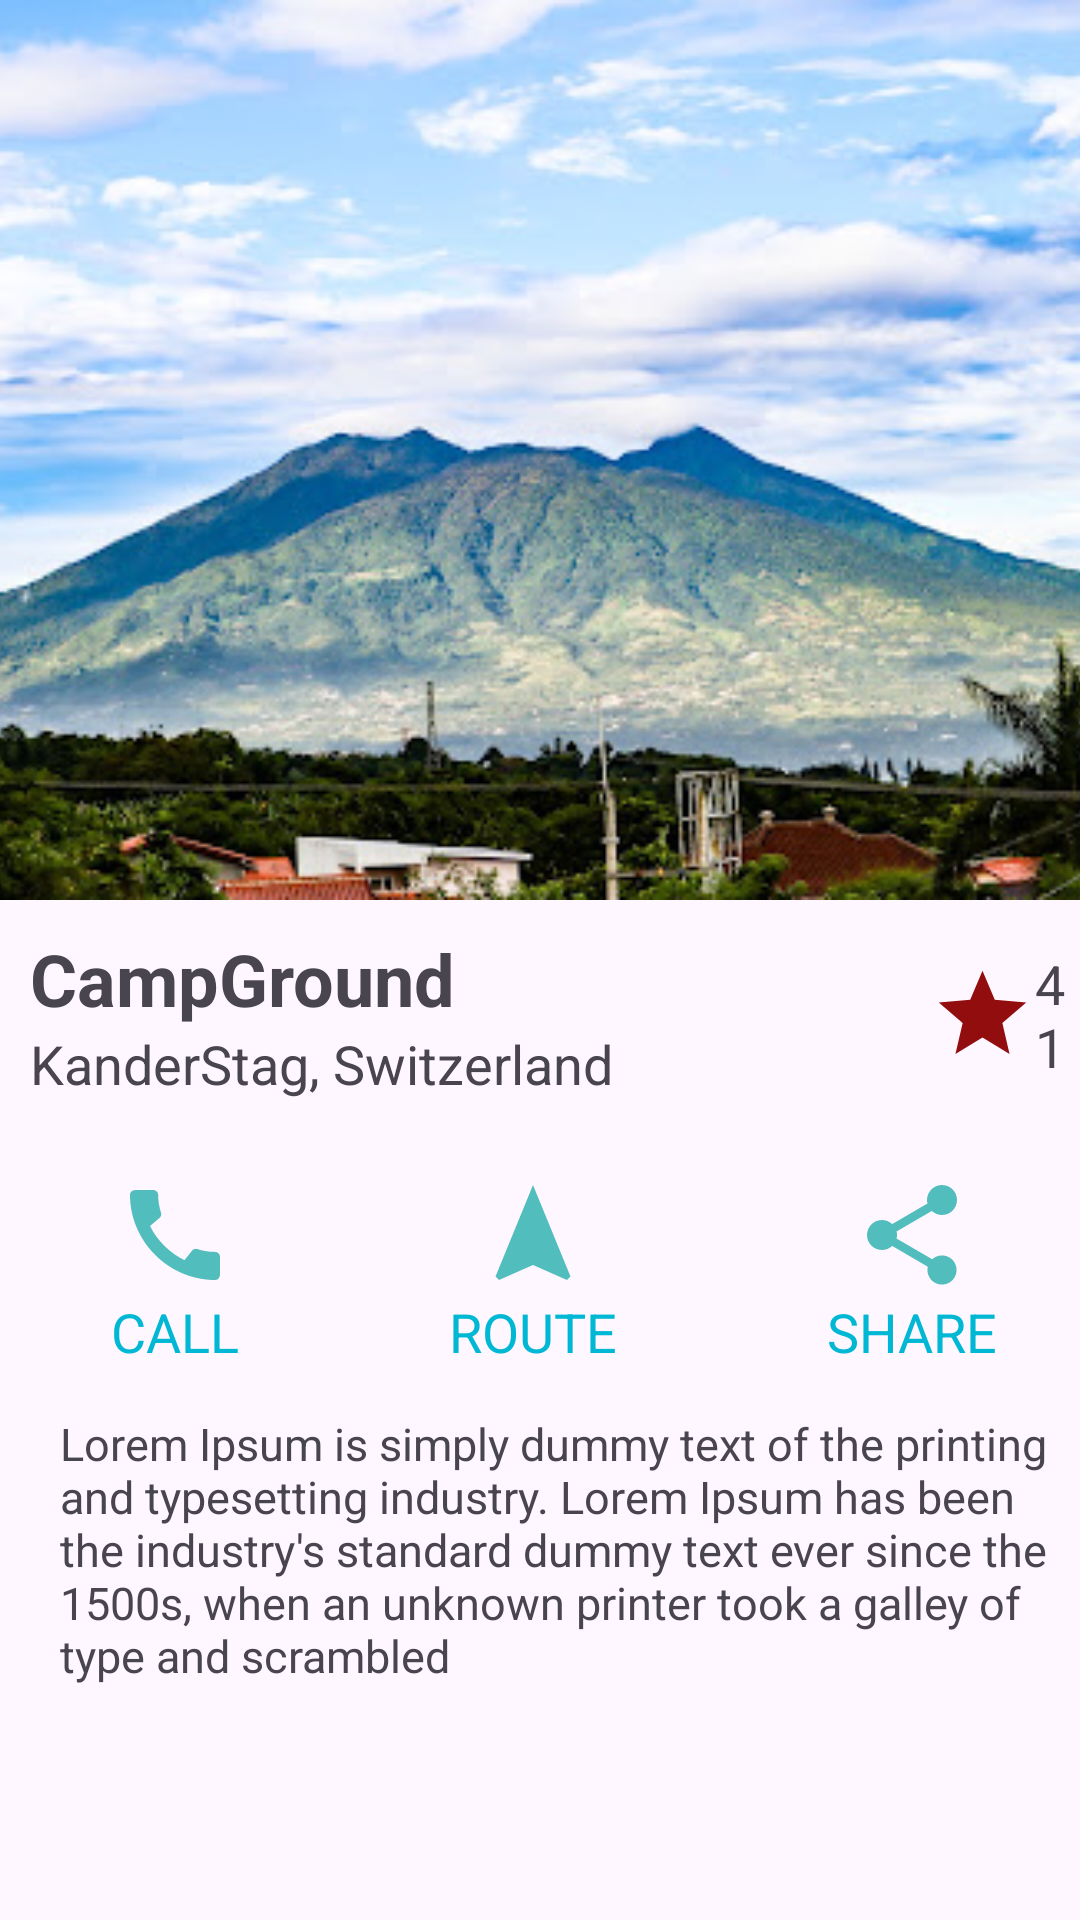

Icons on this 1080 × 1920 Android screen, each with its box as (x1, y1, x2, y2):
navigation: (495, 1185, 571, 1280)
star: (939, 971, 1026, 1054)
